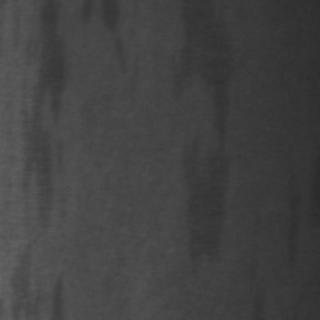inclusion: (167, 2, 227, 266), (20, 3, 60, 225), (275, 166, 307, 278), (95, 0, 131, 72), (44, 270, 68, 318)
